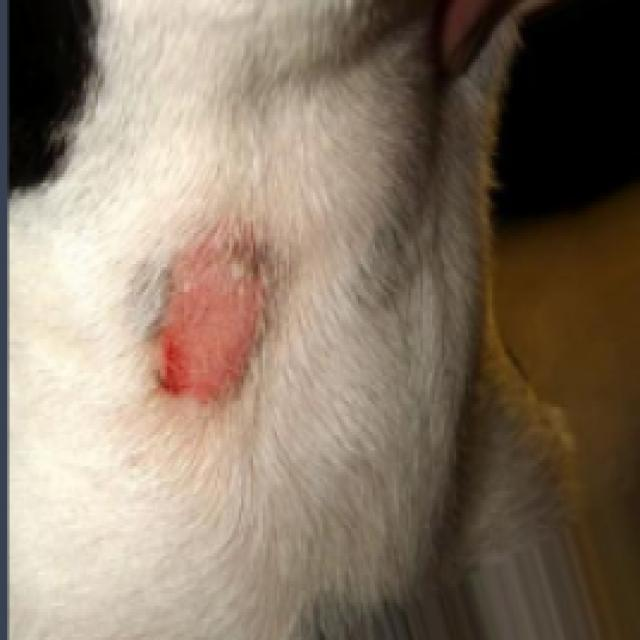hac lao: (100, 172, 323, 470)
